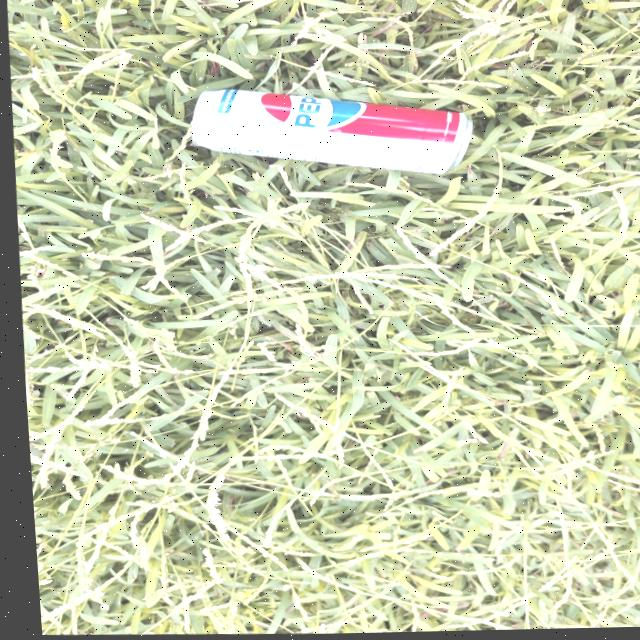Pepsi Retro: (172, 72, 473, 185)
